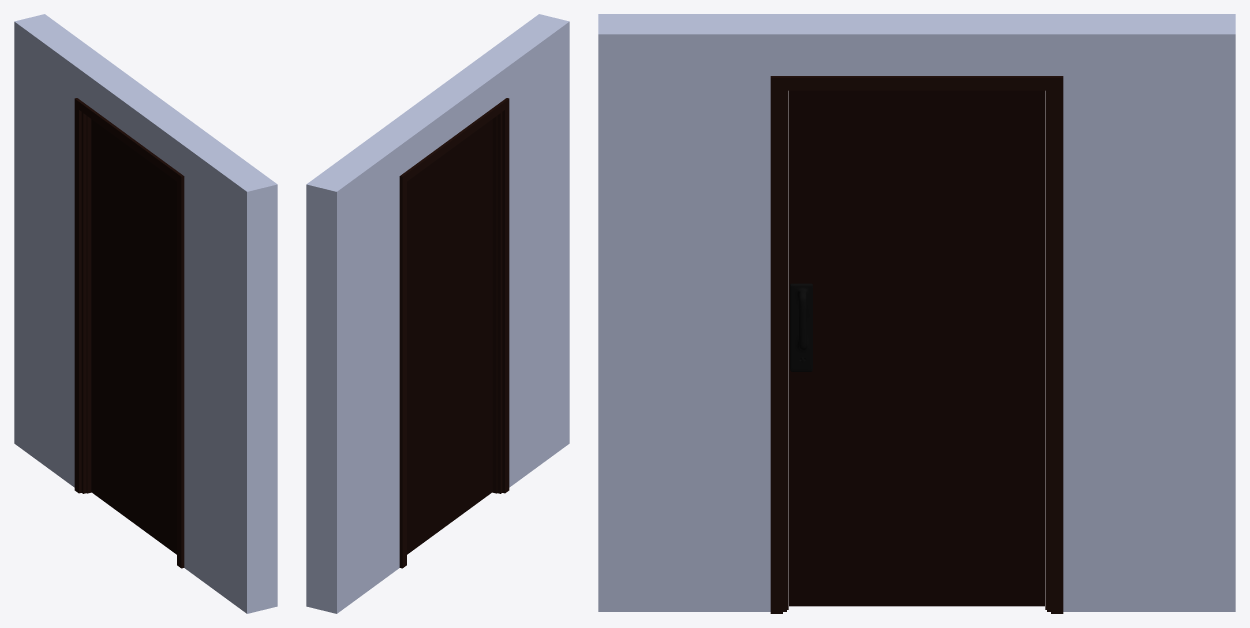
File: Door.fbx
3 views of the same model, side by side, from view 1: azimuth 30°, elevation 25°; view 2: azimuth 150°, elevation 25°; view 3: azimuth 270°, elevation 25° (orthographic). The views are drawn at different scales.
Parts seen in each view (by area): view 1: WallDoorFrame, Door; view 2: WallDoorFrame, Door; view 3: WallDoorFrame, Door.
Part boxes in pixels (x1,y1,x2,y2): WallDoorFrame: [14, 14, 277, 613]; Door: [91, 119, 176, 554]; WallDoorFrame: [306, 14, 569, 613]; Door: [407, 119, 492, 554]; WallDoorFrame: [598, 14, 1235, 613]; Door: [789, 90, 1044, 606].
Bounding box in the file's own units: 18.68 × 200 × 200.
